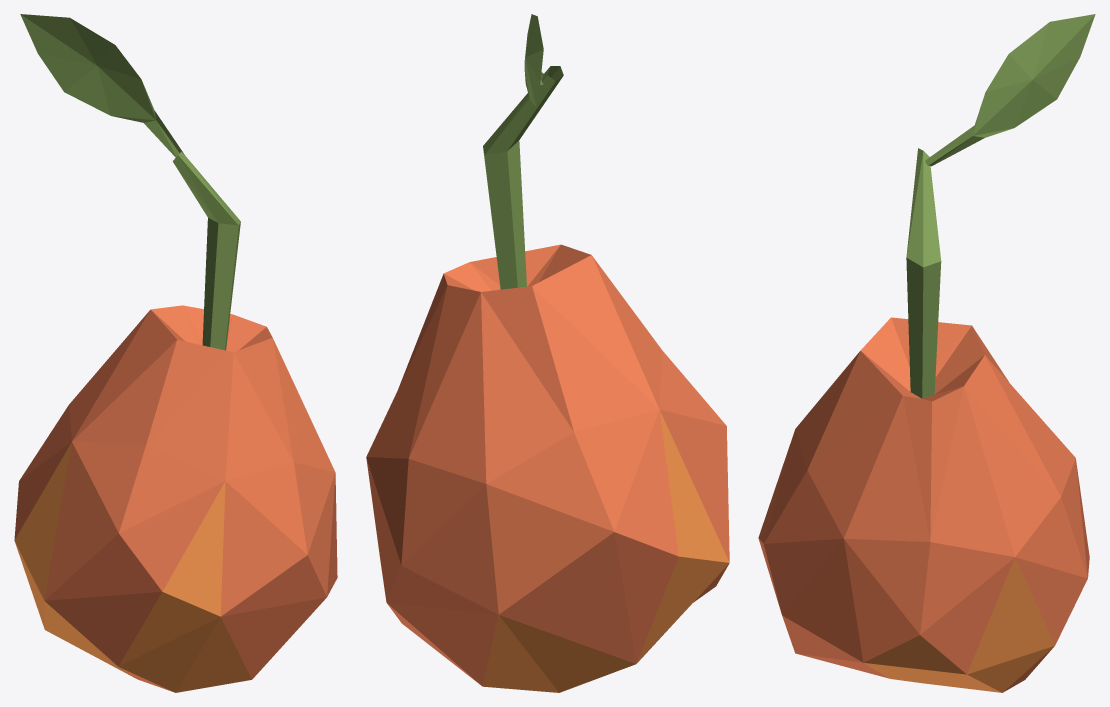
File: Apple_0_5.fbx
3 views of the same model, side by side, from view 1: azimuth 30°, elevation 25°; view 2: azimuth 150°, elevation 25°; view 3: azimuth 270°, elevation 25° (orthographic). The views are drawn at different scales.
Visible parts, largest first — view 1: Apple_0_5; view 2: Apple_0_5; view 3: Apple_0_5.
Part boxes in pixels (left/top/right/bottom): Apple_0_5: left=14, top=14, right=337, bottom=692; Apple_0_5: left=366, top=14, right=729, bottom=692; Apple_0_5: left=758, top=14, right=1095, bottom=692.
Size of the model in its own units: 26.83 by 54.77 by 26.13.
